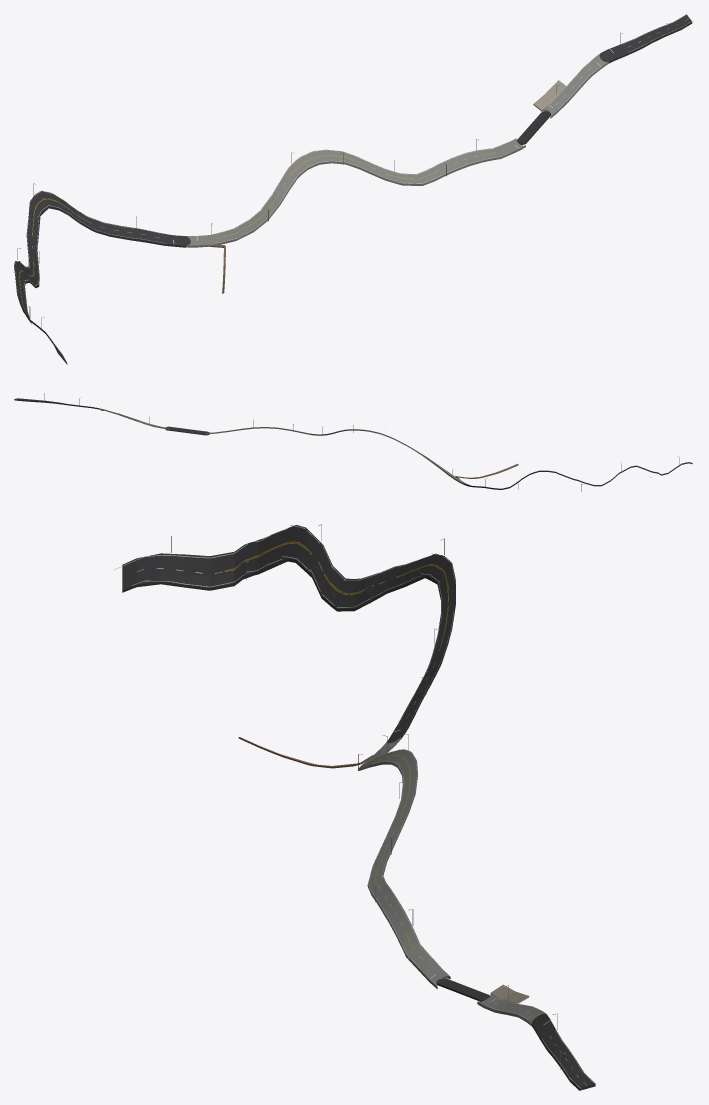
File: 15-27361-14879.8abe9cb0.glb
The picture shows the model from 3 angles, top to bottom: view 1: azimuth 30°, elevation 25°; view 2: azimuth 150°, elevation 25°; view 3: azimuth 270°, elevation 25°; orthographic projection. The views are drawn at different scales.
Bounding box in the file's own units: 531 × 57.81 × 197.
